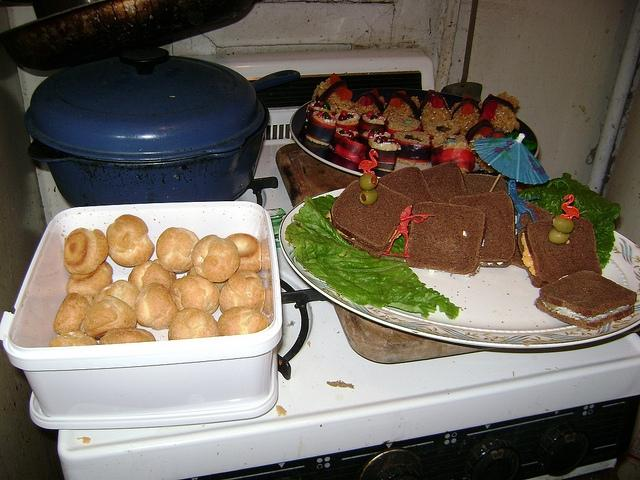lettuce: (285, 194, 461, 320), (517, 172, 620, 270), (506, 132, 538, 150)
